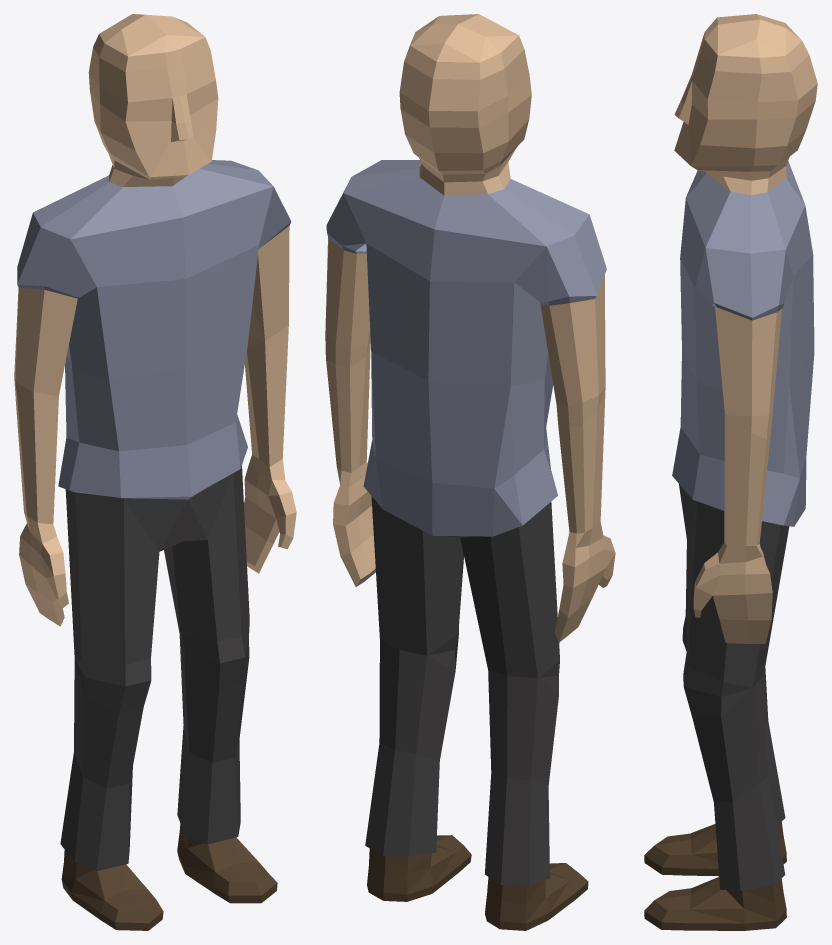
Rendered from Male_Standing.glb.
The picture shows the model from 3 angles, left to right: view 1: azimuth 30°, elevation 25°; view 2: azimuth 150°, elevation 25°; view 3: azimuth 270°, elevation 25°; orthographic projection. The views are drawn at different scales.
Visible parts, largest first — view 1: Male_Standing; view 2: Male_Standing; view 3: Male_Standing.
Boxes of the visible parts, left/top/right/bottom form: Male_Standing: left=14, top=14, right=296, bottom=930; Male_Standing: left=325, top=14, right=615, bottom=930; Male_Standing: left=644, top=14, right=817, bottom=930.
Size of the model in its own units: 1.24 by 3.83 by 0.6923.
